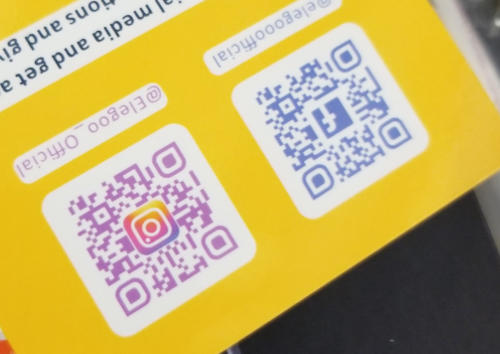QR_CODE: (61, 135, 248, 323), (251, 29, 418, 207)
